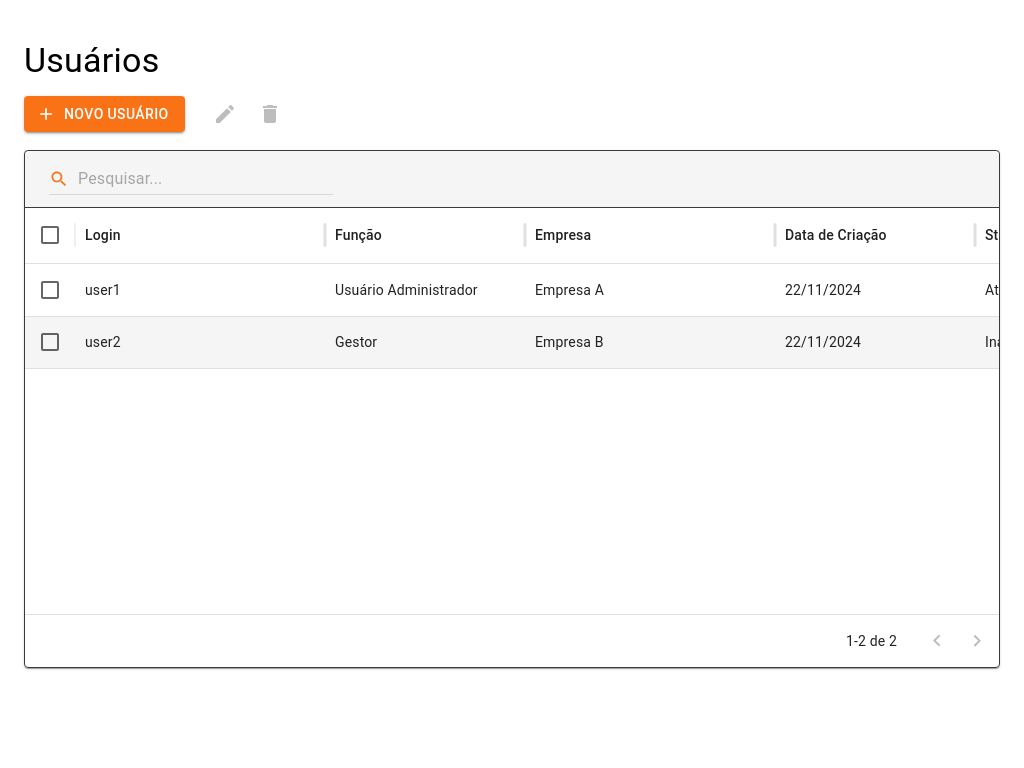
Componente Users › deve abrir o modal ao clicar no botão "Novo Usuário"
The image size is (1024, 768).
Click the button "Novo Usuário". click: (104,114)
box: [24,96,185,132]
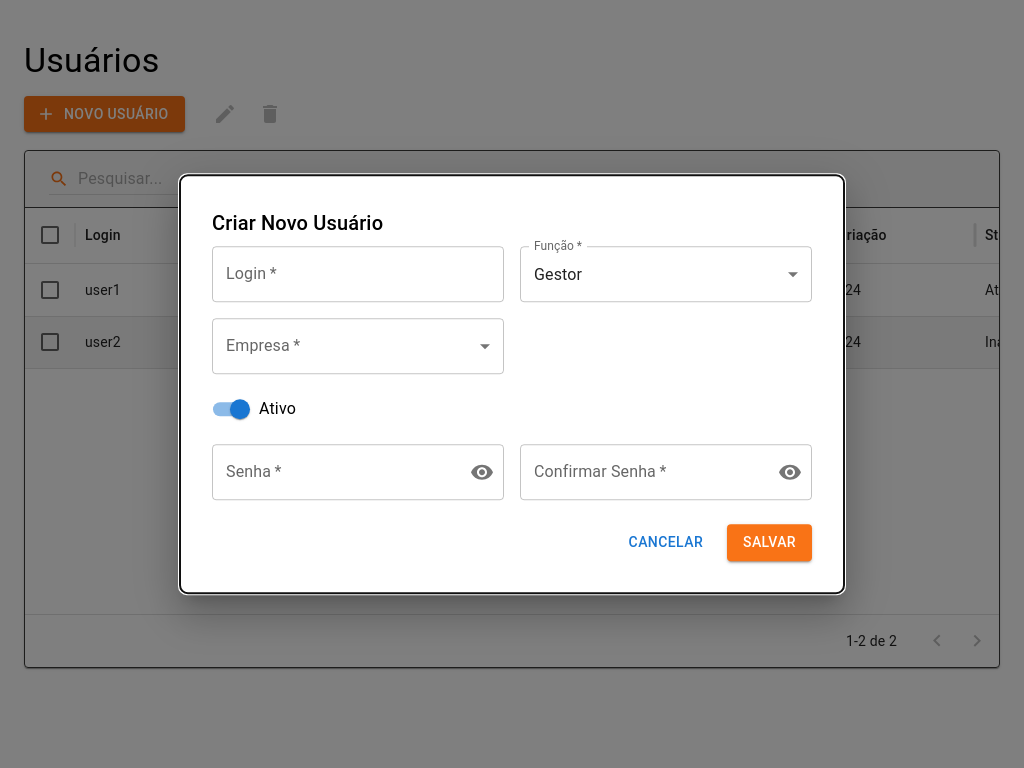
Expected: the heading "Criar Novo Usuário" is shown, [212,211,383,235]
